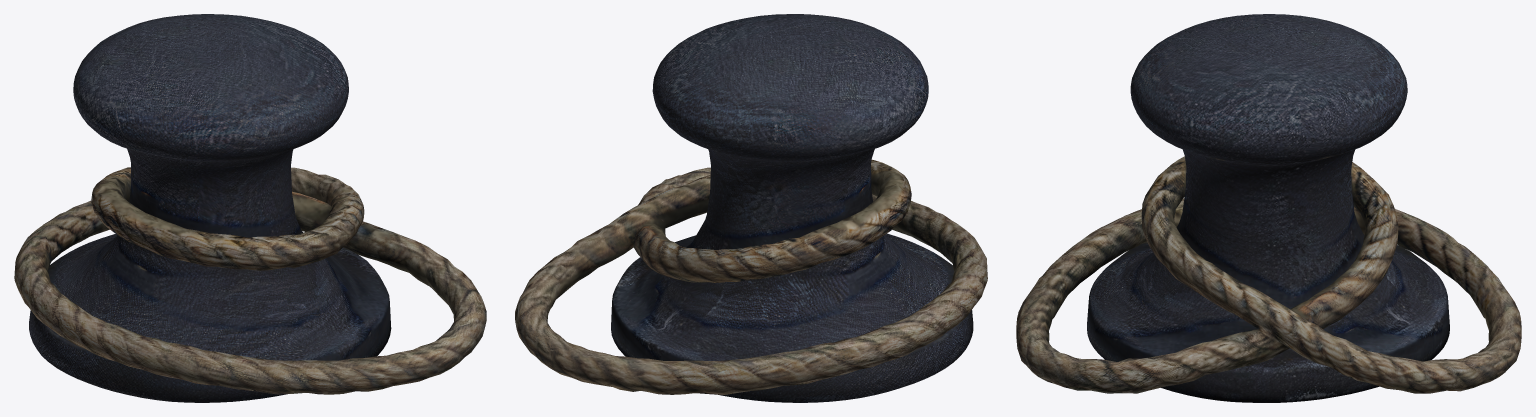
Rendered from SM_Env_SohoDockBollard.fbx.
The picture shows the model from 3 angles, left to right: view 1: azimuth 30°, elevation 25°; view 2: azimuth 150°, elevation 25°; view 3: azimuth 270°, elevation 25°; orthographic projection.
Parts seen in each view (by area): view 1: SM_Env_SohoDockBollard; view 2: SM_Env_SohoDockBollard; view 3: SM_Env_SohoDockBollard.
Part boxes in pixels (x1,y1,x2,y2): SM_Env_SohoDockBollard: [14, 14, 486, 402]; SM_Env_SohoDockBollard: [515, 14, 987, 402]; SM_Env_SohoDockBollard: [1016, 14, 1521, 402].
Bounding box in the file's own units: 31.71 × 38.5 × 24.
1 material, 1 textured.
